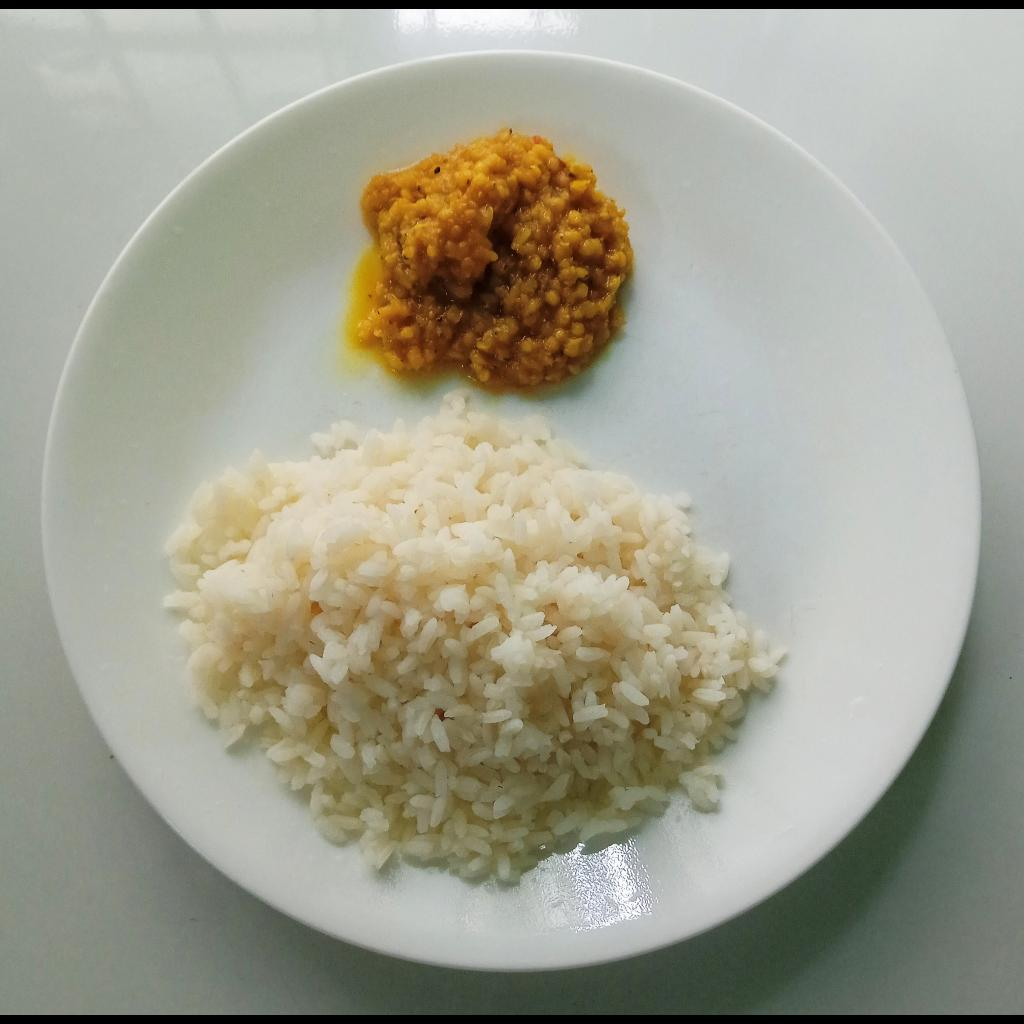daal: (353, 128, 634, 386)
rice: (161, 394, 791, 894)
